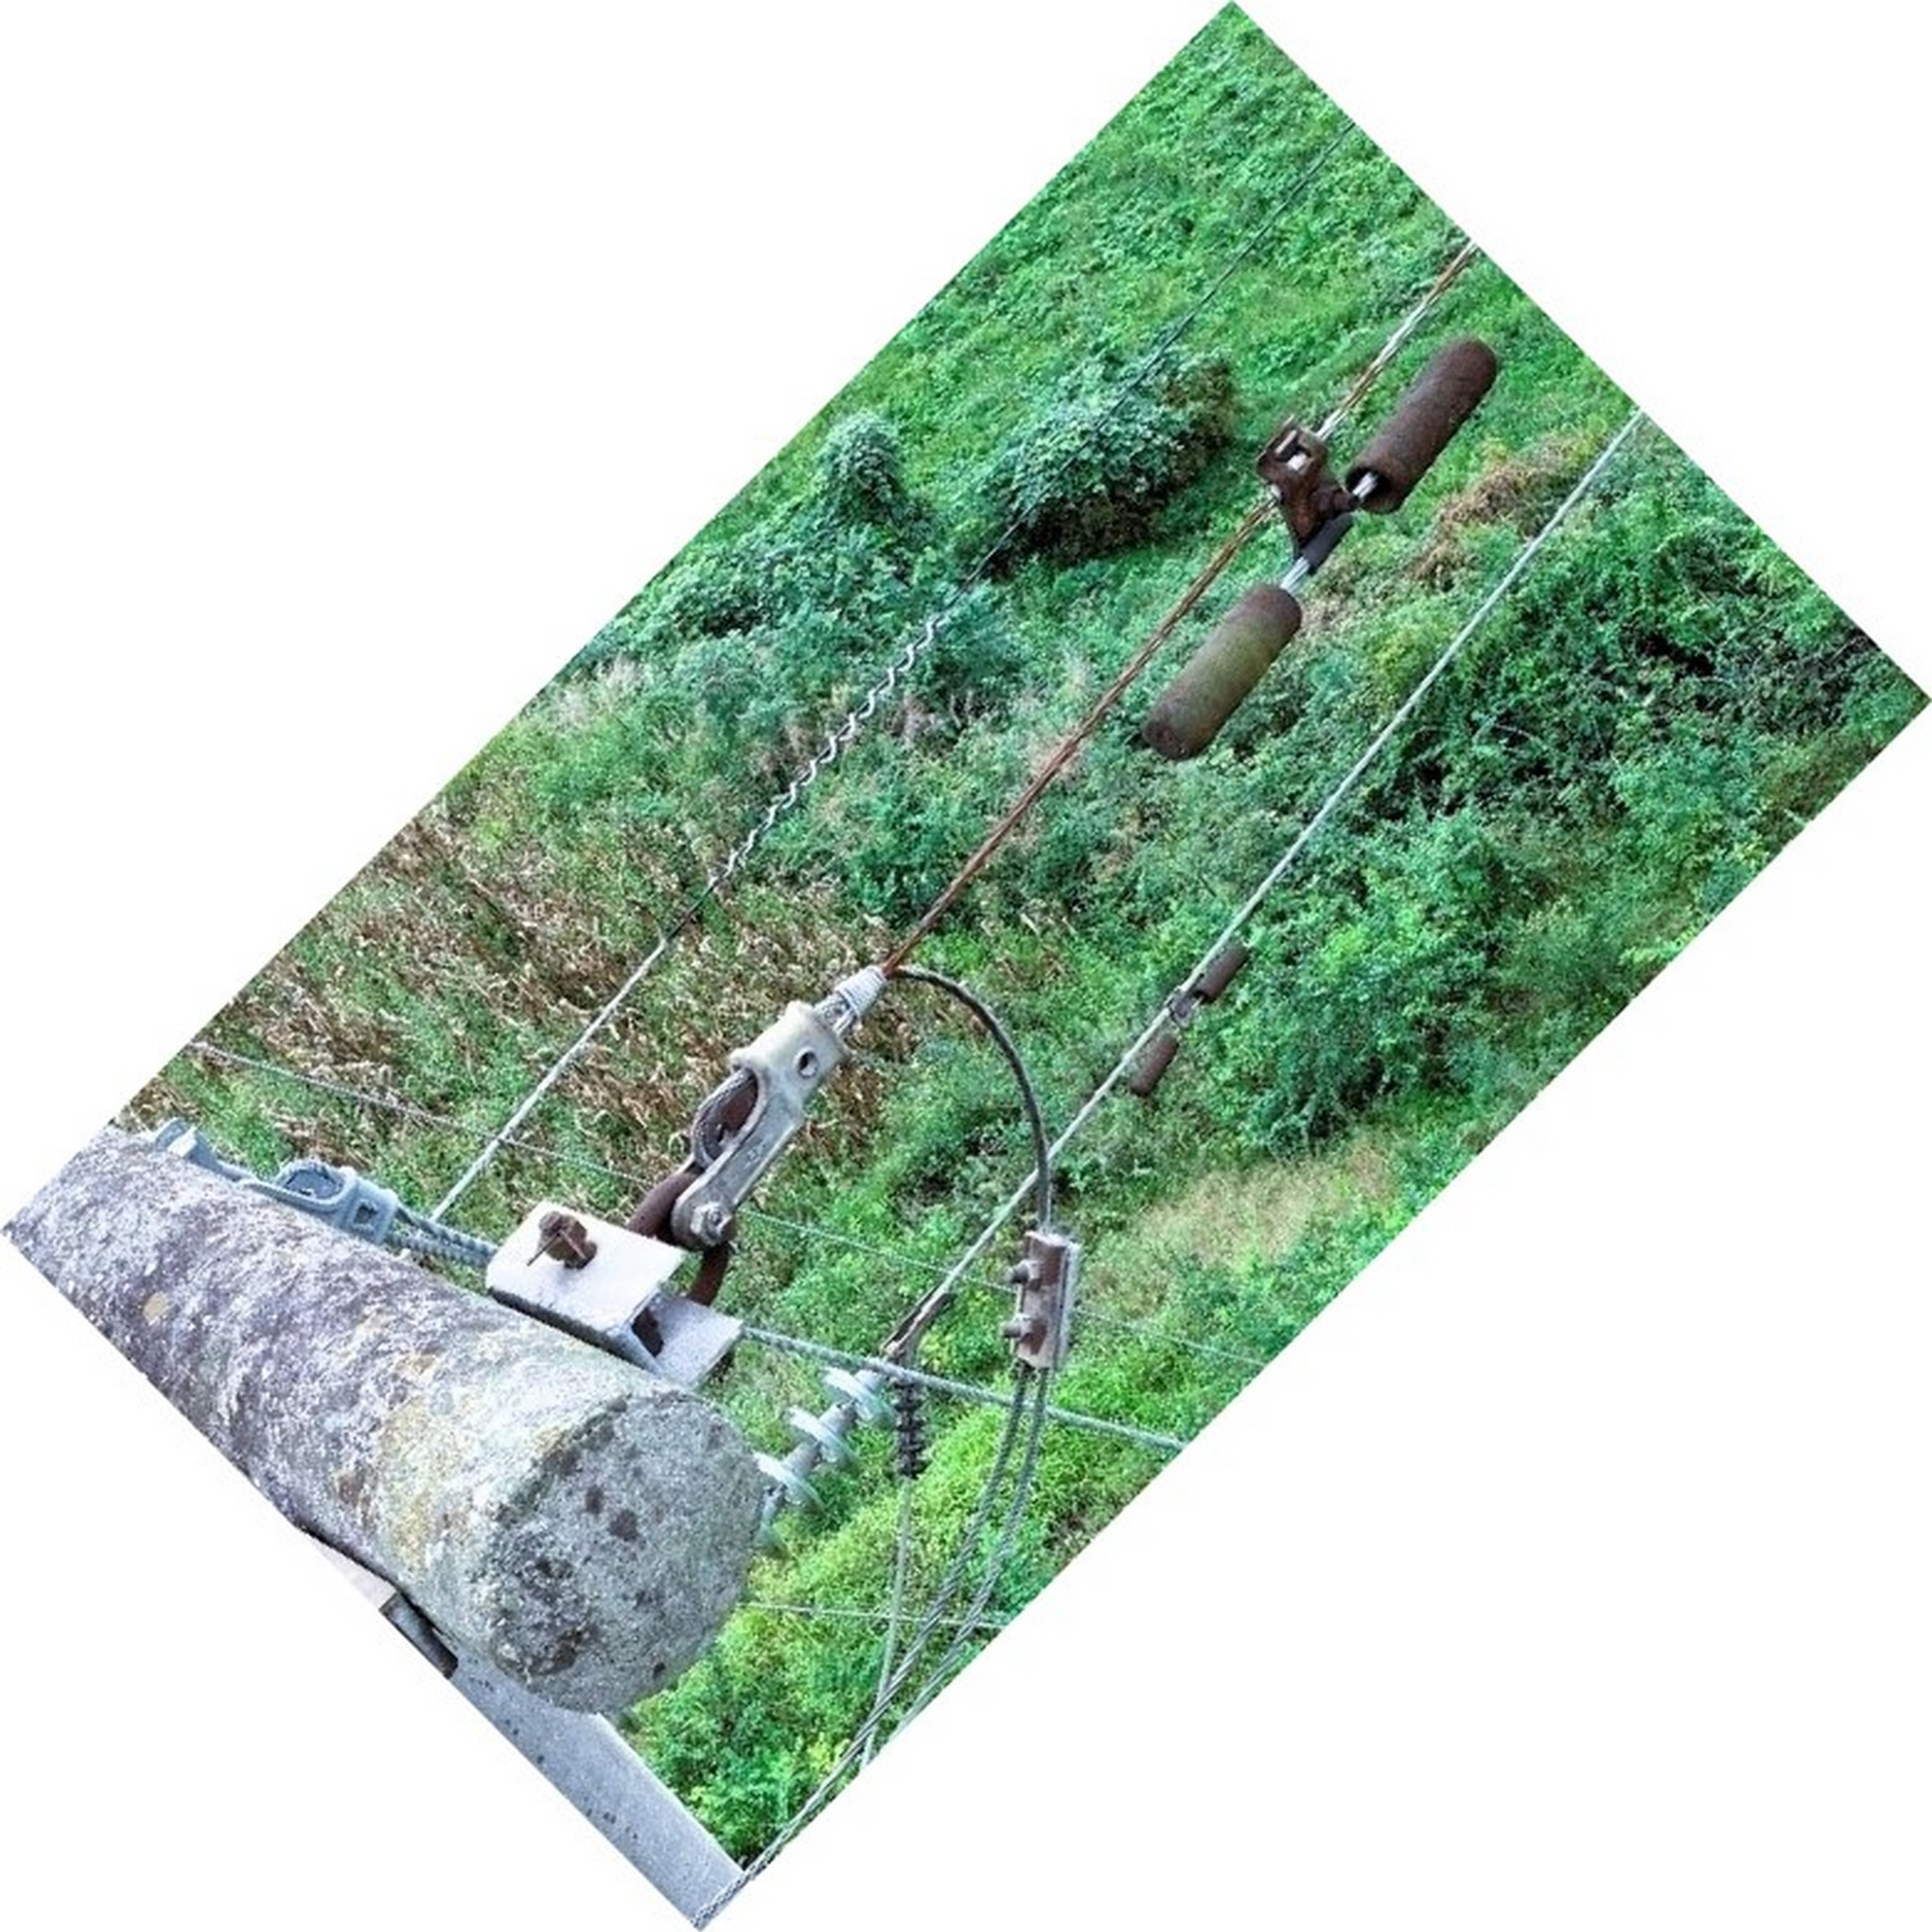Shockproof hammer: (1116, 311, 1562, 786)
